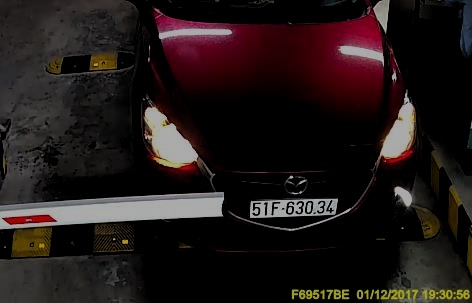plate: (247, 196, 336, 220)
